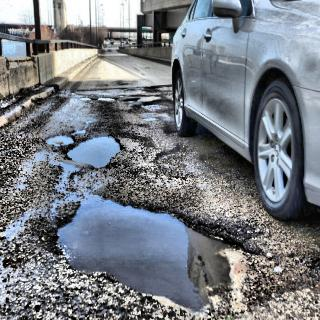pothole: (49, 184, 262, 320), (44, 128, 124, 169), (122, 96, 167, 124), (78, 92, 118, 108)
